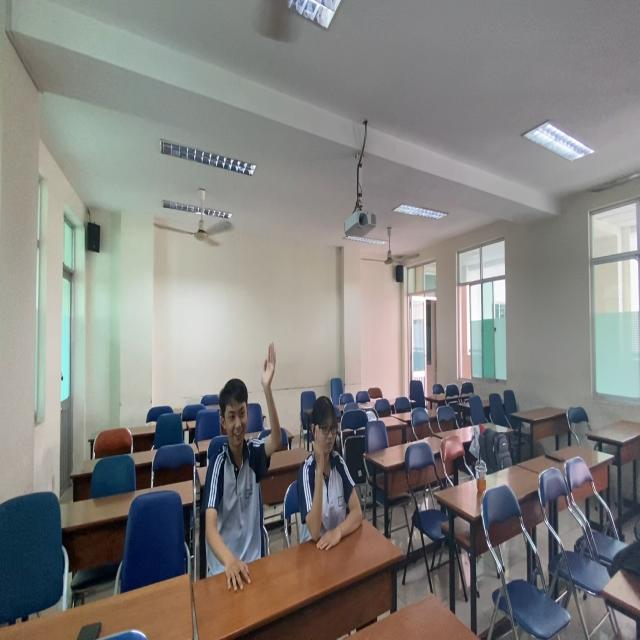raise_hand: (200, 340, 285, 588), (300, 398, 368, 557)
